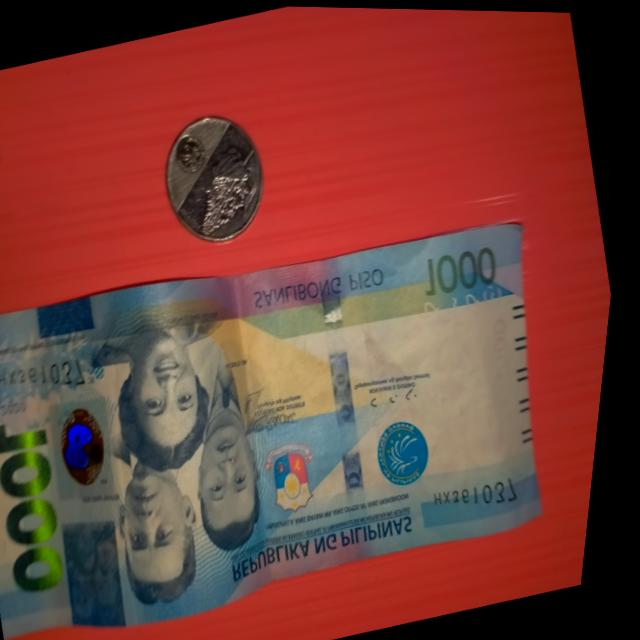concealed_value: (59, 510, 152, 635)
optically_variable_device: (46, 385, 136, 510)
see_through_mark: (418, 269, 517, 326)
